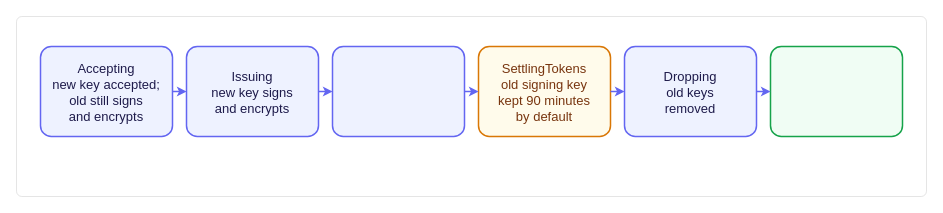
Some shapes in this 943 by 213 pixel diagram are drawn without their labels. The box of each missing label's shape, as (x1, y1, x2, y2) in pixels:
Finalizing bundle replaced, retired keys recorded: (769, 45, 903, 137)
Reencrypting every Secret is rewritten under the new key: (331, 45, 465, 137)
